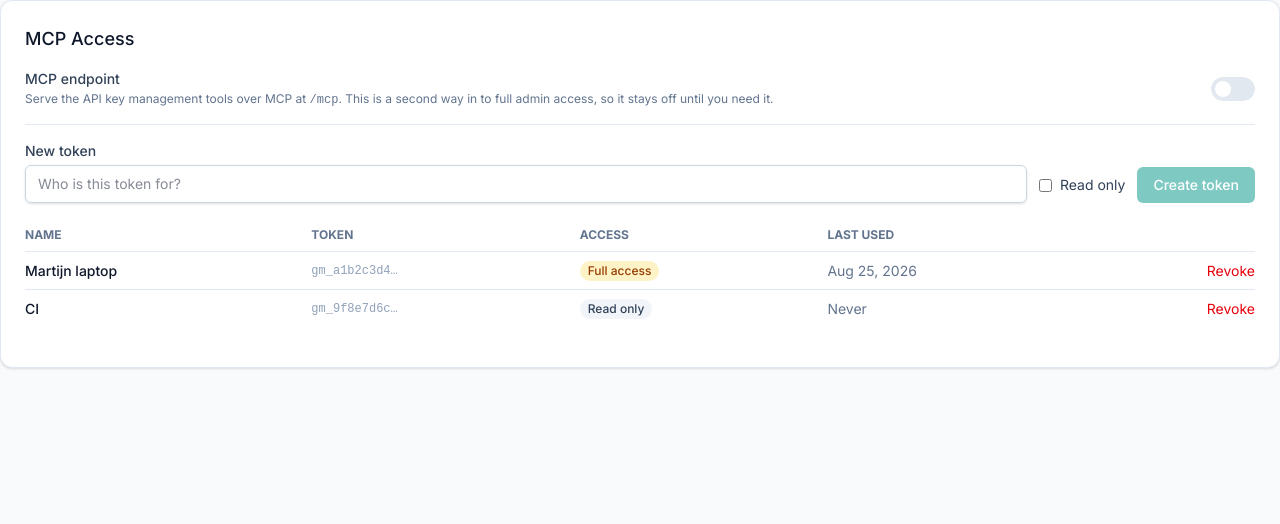
Test: MCPTokensPanel › creates a token and reveals the secret once
Type "New laptop" into the field with id "mcpTokenName". click: [526, 184]
box: [25,165,1027,203]
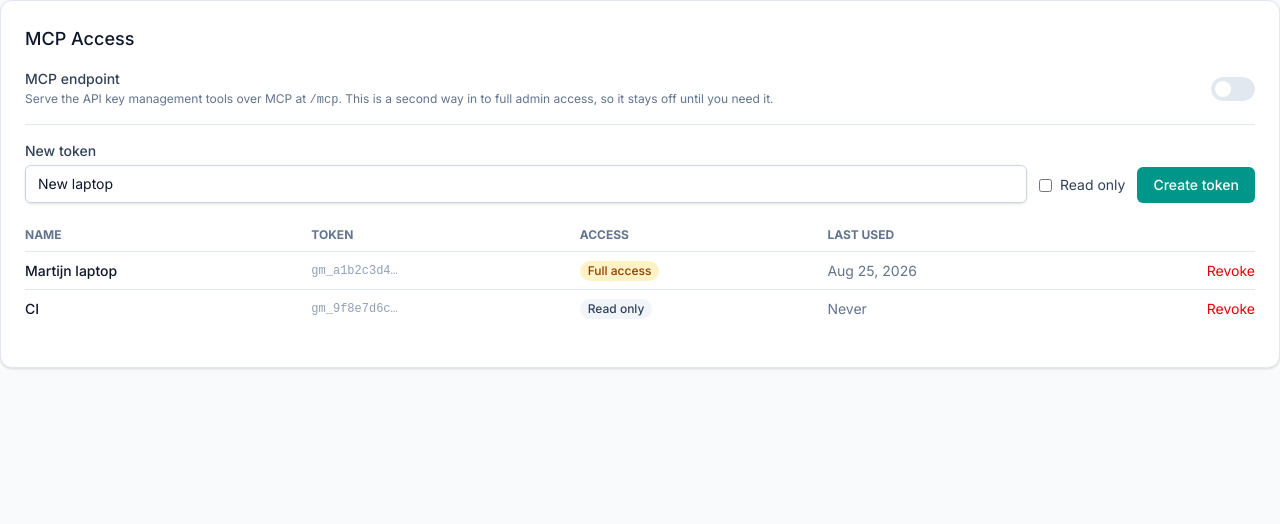
Submit the form, box [25,124,1255,203]
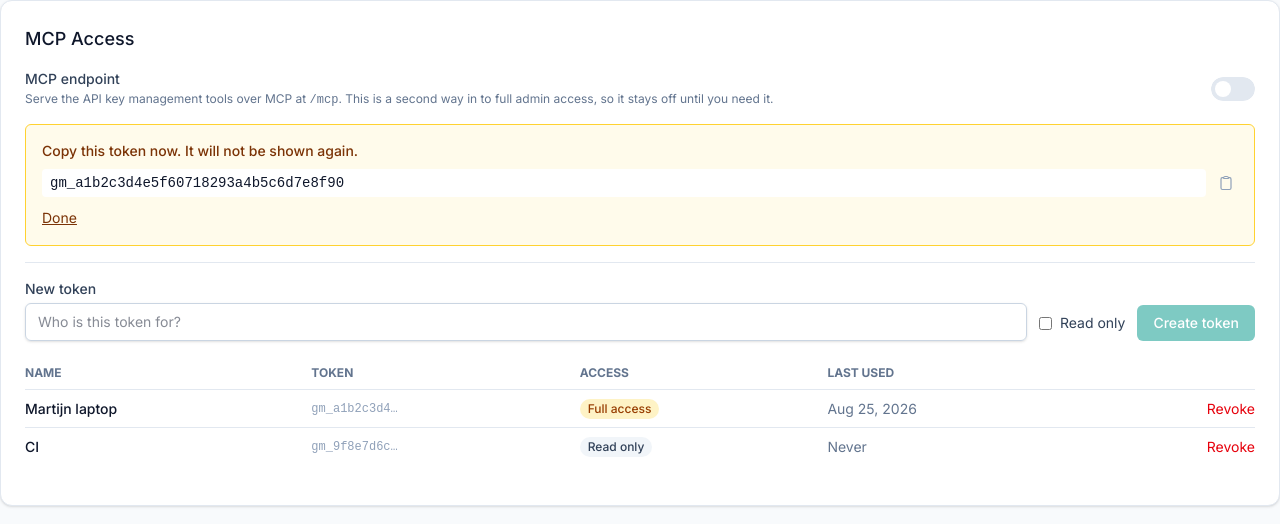
Check: the text "gm_a1b2c3d4e5f60718293a4b5c6d7e8f90" is shown, box [42,169,1206,197]
Check: the text "will not be shown again" is shown, box [42,142,358,159]
Dismissing clears it from the DOM: it cannot be fetched back.
Click the button "Done". click: [59, 218]
box: [42,208,77,228]
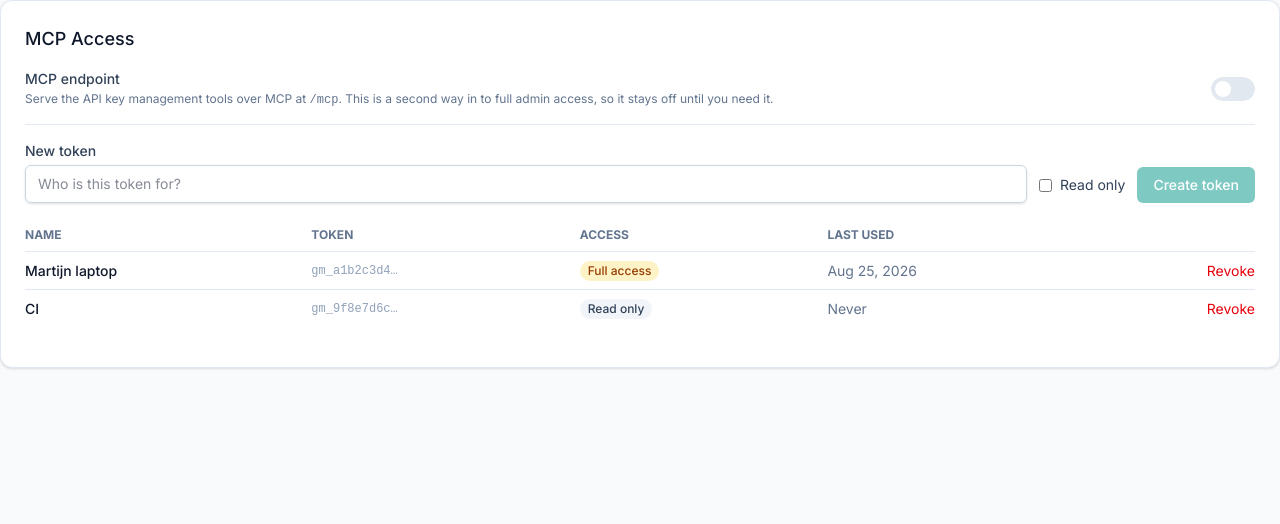
Check: the text "gm_a1b2c3d4e5f60718293a4b5c6d7e8f90" is gone
